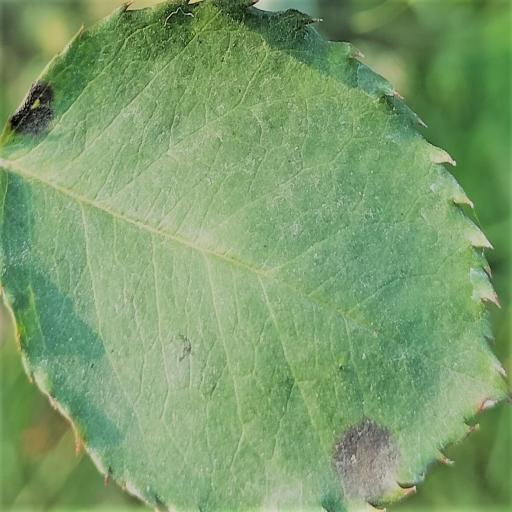black_spot: (0, 0, 508, 511)
